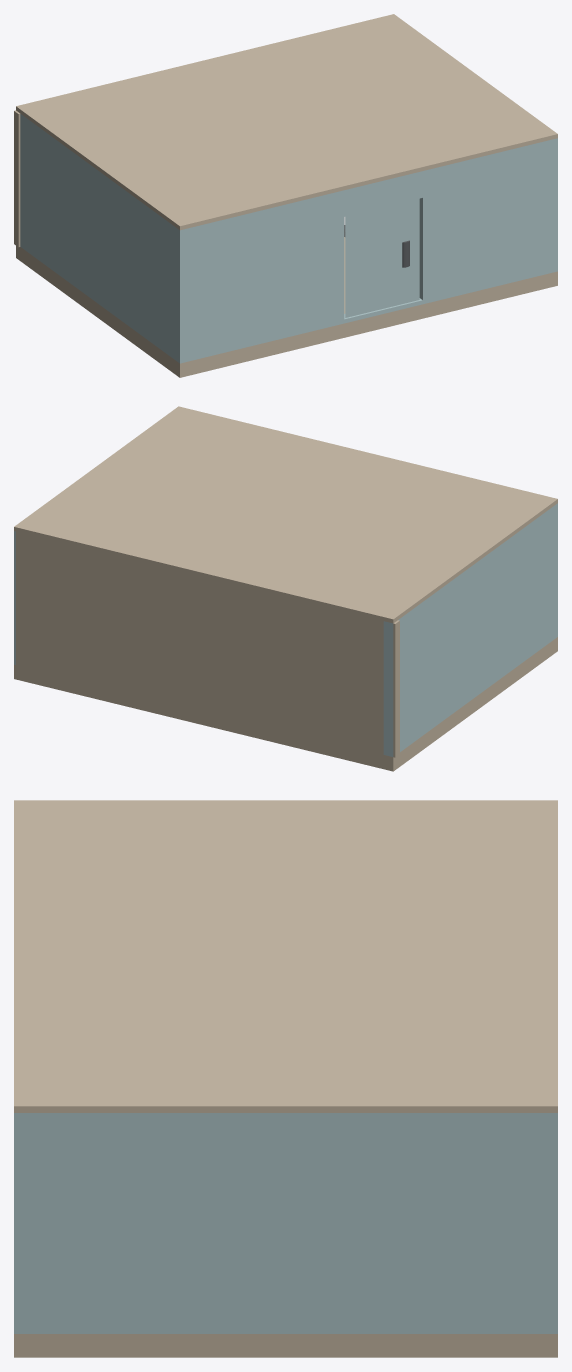
The model's file is PopStoreAntonin.glb.
3 views of the same model, one above another, from view 1: azimuth 30°, elevation 25°; view 2: azimuth 150°, elevation 25°; view 3: azimuth 270°, elevation 25° (orthographic). The views are drawn at different scales.
Parts seen in each view (by area): view 1: Mesh_Mesh_head_geo.001_lambert2SG.001; view 2: Mesh_Mesh_head_geo.001_lambert2SG.001; view 3: Mesh_Mesh_head_geo.001_lambert2SG.001.
Part boxes in pixels (<box>): Mesh_Mesh_head_geo.001_lambert2SG.001: <box>14,14,557,377</box>; Mesh_Mesh_head_geo.001_lambert2SG.001: <box>14,406,557,771</box>; Mesh_Mesh_head_geo.001_lambert2SG.001: <box>14,800,557,1357</box>.
Size of the model in its own units: 0.194 by 0.074 by 0.145.
